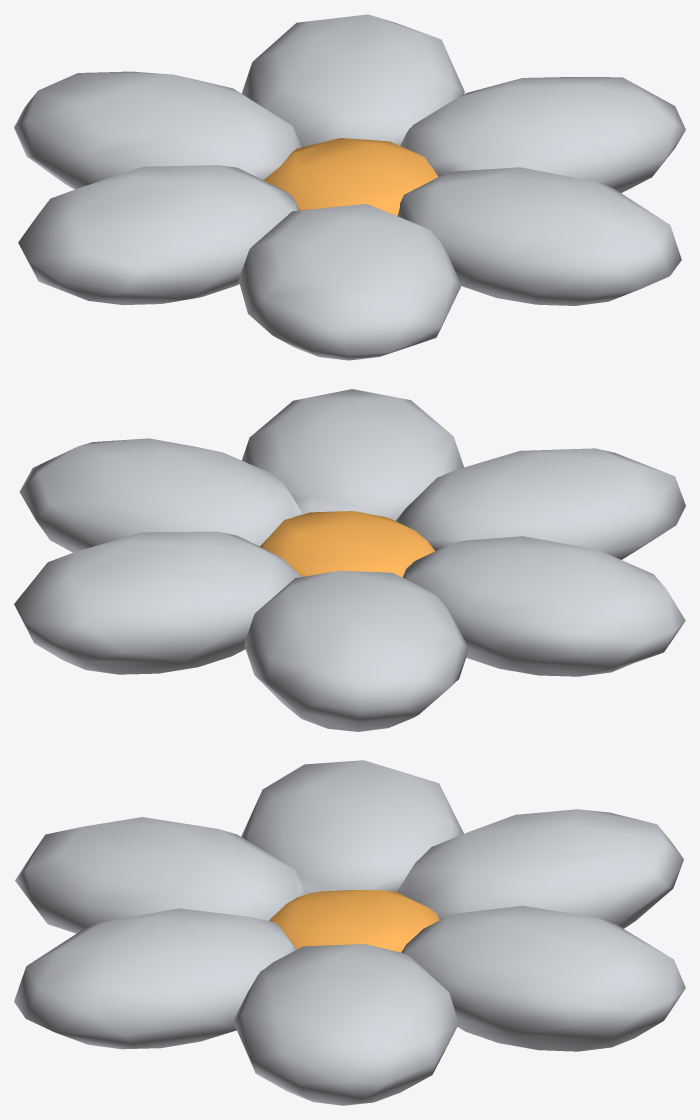
File: flowers1-compressed.glb
3 renders of one model, top to bottom at view 1: azimuth 30°, elevation 25°; view 2: azimuth 150°, elevation 25°; view 3: azimuth 270°, elevation 25°, orthographic.
Parts seen in each view (by area): view 1: flowers1; view 2: flowers1; view 3: flowers1.
Boxes of the visible parts, x1=… form: flowers1: x1=14, y1=14, x2=685, y2=360; flowers1: x1=14, y1=389, x2=685, y2=731; flowers1: x1=14, y1=760, x2=685, y2=1105.
Size of the model in its own units: 1.6 by 0.2 by 1.43.
